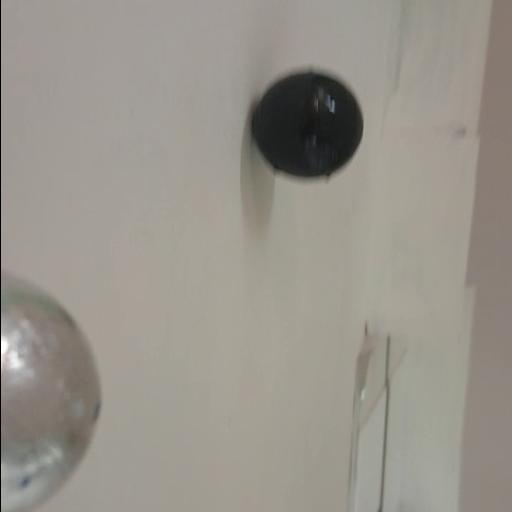alive: (1, 260, 101, 512)
dead: (249, 66, 365, 184)
